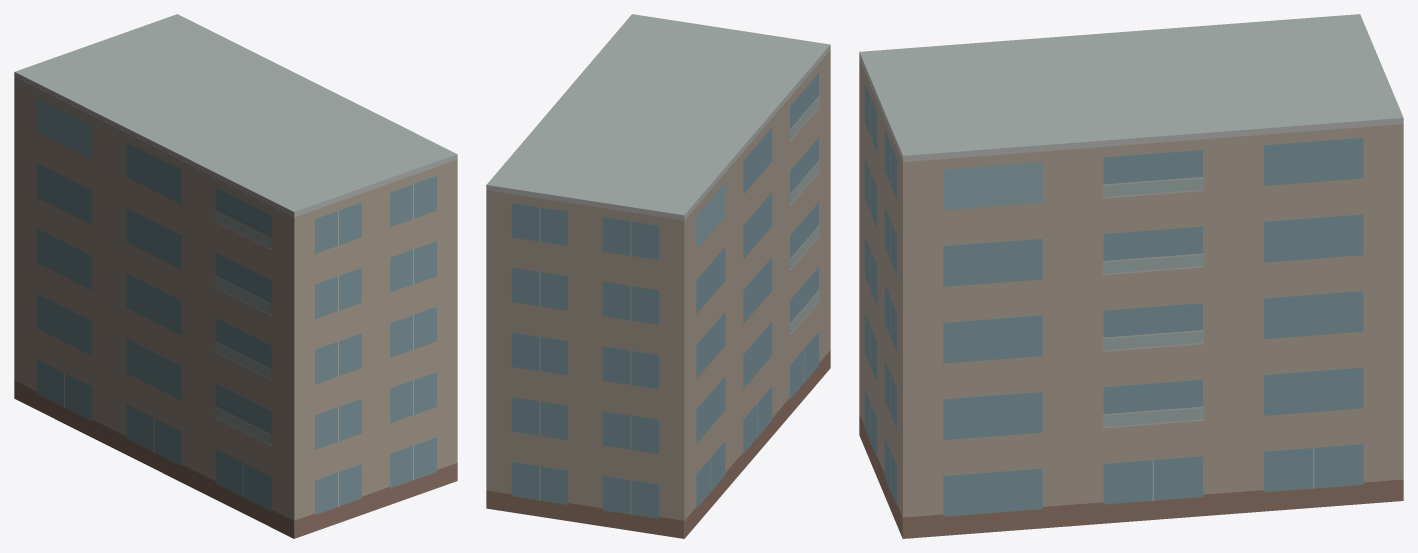
The model's file is survey-upis-32704520.glb.
The picture shows the model from 3 angles, left to right: view 1: azimuth 30°, elevation 25°; view 2: azimuth 150°, elevation 25°; view 3: azimuth 270°, elevation 25°; orthographic projection. The views are drawn at different scales.
Visible parts, largest first — view 1: survey-upis-32704520.tmp; view 2: survey-upis-32704520.tmp; view 3: survey-upis-32704520.tmp.
Part boxes in pixels (x1=…): survey-upis-32704520.tmp: x1=14, y1=14, x2=457, y2=538; survey-upis-32704520.tmp: x1=486, y1=14, x2=830, y2=538; survey-upis-32704520.tmp: x1=859, y1=14, x2=1403, y2=538.
Size of the model in its own units: 11.84 by 14.9 by 19.2.
